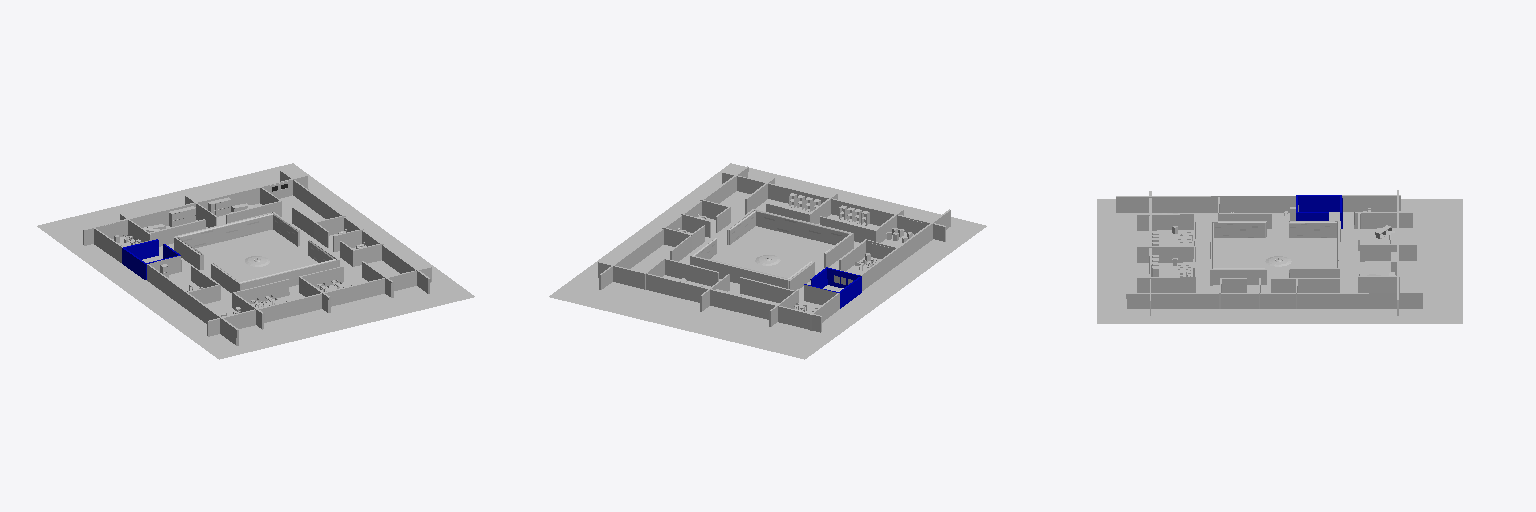
File: finalmap.obj
3 views of the same model, side by side, from view 1: azimuth 30°, elevation 25°; view 2: azimuth 150°, elevation 25°; view 3: azimuth 270°, elevation 25° (orthographic).
Parts seen in each view (by area): view 1: floor, grass, Cube.001, Cube.032, Cube.004, Cube.003, HEDGE.005, Cube.053, Cube.038, Cube.040, Cube.028, Cube.039; view 2: floor, grass, Cube.004, Cube.001, Cube.032, Cube.003, HEDGE.002, Cube.018, Cube.028, Cube.040, Cube.038; view 3: floor, Cube.032, grass, Cube.003, Cube.025, Cube.014, Cube.007, Cube.008, HEDGE.007, HEDGE.001, Cube.021, Cube.023 (+4 smaller).
Part boxes in pixels (left/top/right/bottom): floor: left=37, top=163, right=474, bottom=359; grass: left=195, top=230, right=317, bottom=281; Cube.001: left=207, top=267, right=431, bottom=336; Cube.032: left=280, top=170, right=430, bottom=293; Cube.004: left=83, top=175, right=308, bottom=245; Cube.003: left=147, top=264, right=238, bottom=345; HEDGE.005: left=178, top=213, right=272, bottom=247; Cube.053: left=242, top=260, right=337, bottom=289; Cube.038: left=234, top=279, right=289, bottom=303; Cube.040: left=150, top=219, right=205, bottom=246; Cube.028: left=226, top=201, right=281, bottom=223; Cube.039: left=301, top=266, right=343, bottom=287; floor: left=549, top=163, right=986, bottom=359; grass: left=710, top=226, right=834, bottom=277; Cube.004: left=598, top=262, right=821, bottom=332; Cube.001: left=722, top=172, right=945, bottom=241; Cube.032: left=599, top=166, right=748, bottom=289; Cube.003: left=860, top=209, right=950, bottom=290; HEDGE.002: left=755, top=210, right=850, bottom=244; Cube.018: left=691, top=256, right=788, bottom=288; Cube.028: left=665, top=258, right=718, bottom=286; Cube.040: left=740, top=277, right=794, bottom=302; Cube.038: left=820, top=216, right=875, bottom=242; floor: left=1097, top=199, right=1462, bottom=323; Cube.032: left=1126, top=293, right=1422, bottom=308; grass: left=1214, top=237, right=1336, bottom=284; Cube.003: left=1116, top=196, right=1295, bottom=212; Cube.025: left=1342, top=195, right=1400, bottom=211; Cube.014: left=1137, top=277, right=1195, bottom=292; Cube.007: left=1354, top=212, right=1412, bottom=228; Cube.008: left=1358, top=244, right=1416, bottom=261; HEDGE.007: left=1214, top=222, right=1265, bottom=237; HEDGE.001: left=1289, top=222, right=1336, bottom=237; Cube.021: left=1210, top=269, right=1266, bottom=285; Cube.023: left=1298, top=195, right=1341, bottom=211.
Size of the model in its own units: 97.19 by 7.96 by 120.